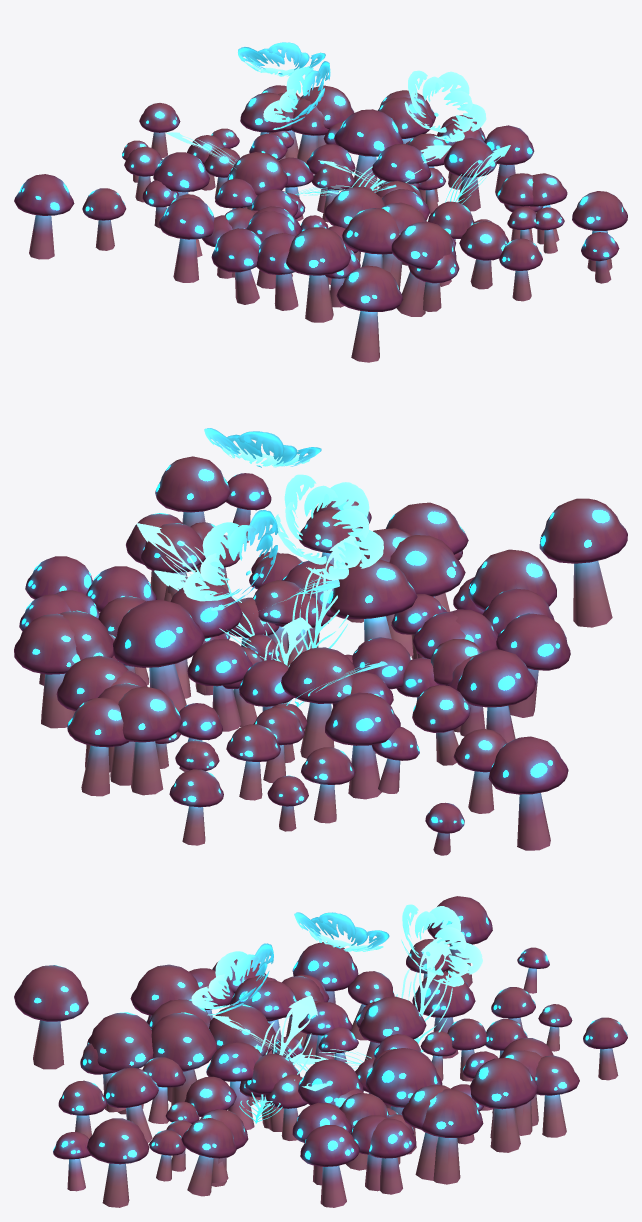
The model's file is EXP_Flower_Invisibility.fbx.
The picture shows the model from 3 angles, top to bottom: view 1: azimuth 30°, elevation 25°; view 2: azimuth 150°, elevation 25°; view 3: azimuth 270°, elevation 25°; orthographic projection. The views are drawn at different scales.
Visible parts, largest first — view 1: OBJ_Flower_invisibility_06_lod0, OBJ_Flower_invisibility_05_lod0, OBJ_Flower_invisibility_03_lod0, OBJ_Flower_invisibility_01_lod0, OBJ_Flower_invisibility_02_lod0, OBJ_Flower_invisibility_04_lod0; view 2: OBJ_Flower_invisibility_06_lod0, OBJ_Flower_invisibility_05_lod0, OBJ_Flower_invisibility_04_lod0, OBJ_Flower_invisibility_01_lod0, OBJ_Flower_invisibility_02_lod0, OBJ_Flower_invisibility_03_lod0; view 3: OBJ_Flower_invisibility_06_lod0, OBJ_Flower_invisibility_04_lod0, OBJ_Flower_invisibility_05_lod0, OBJ_Flower_invisibility_03_lod0, OBJ_Flower_invisibility_02_lod0, OBJ_Flower_invisibility_01_lod0.
Part boxes in pixels (<box>): OBJ_Flower_invisibility_06_lod0: <box>14,93,627,362</box>; OBJ_Flower_invisibility_05_lod0: <box>82,92,536,322</box>; OBJ_Flower_invisibility_03_lod0: <box>204,70,510,289</box>; OBJ_Flower_invisibility_01_lod0: <box>142,61,543,307</box>; OBJ_Flower_invisibility_02_lod0: <box>166,42,534,304</box>; OBJ_Flower_invisibility_04_lod0: <box>122,85,567,316</box>; OBJ_Flower_invisibility_06_lod0: <box>98,456,627,850</box>; OBJ_Flower_invisibility_05_lod0: <box>55,509,556,855</box>; OBJ_Flower_invisibility_04_lod0: <box>14,502,470,831</box>; OBJ_Flower_invisibility_01_lod0: <box>109,474,484,793</box>; OBJ_Flower_invisibility_02_lod0: <box>25,510,570,772</box>; OBJ_Flower_invisibility_03_lod0: <box>86,428,465,783</box>; OBJ_Flower_invisibility_06_lod0: <box>14,896,627,1207</box>; OBJ_Flower_invisibility_04_lod0: <box>87,971,579,1196</box>; OBJ_Flower_invisibility_05_lod0: <box>103,939,553,1191</box>; OBJ_Flower_invisibility_03_lod0: <box>151,943,494,1185</box>; OBJ_Flower_invisibility_02_lod0: <box>209,904,537,1207</box>; OBJ_Flower_invisibility_01_lod0: <box>146,912,456,1183</box>.
Size of what is drawn, in the model's own units: 181 by 74.24 by 190.
Materials: 1 (1 with a texture image).
